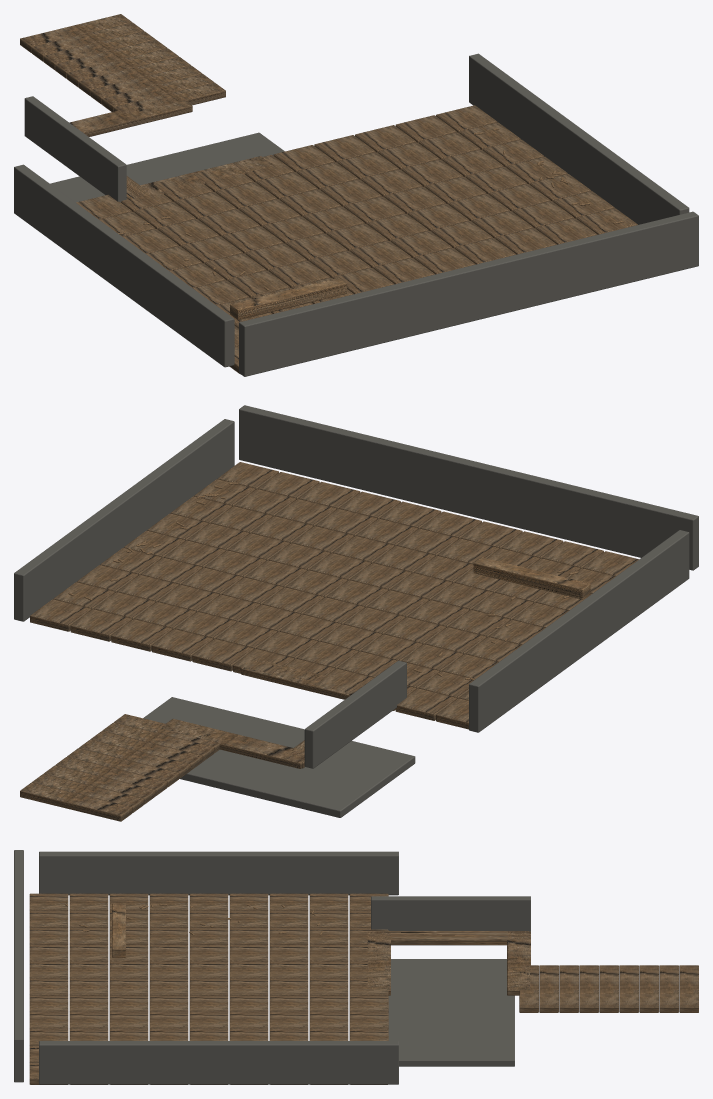
The model's file is sector.glb.
3 renders of one model, top to bottom at view 1: azimuth 30°, elevation 25°; view 2: azimuth 150°, elevation 25°; view 3: azimuth 270°, elevation 25°, orthographic. The views are drawn at different scales.
Visible parts, largest first — view 1: Kitchen rear plinth, Kitchen side plinth, Kitchen side plinth.001, Foundation wall, Joint darkness, Fallen skirting offcut, Ledge turn, Alcove approach, Alcove approach.002, Alcove approach.003, Alcove approach.006, Alcove approach.005 (+72 smaller); view 2: Kitchen rear plinth, Joint darkness, Kitchen side plinth, Kitchen side plinth.001, Foundation wall, Ledge turn, Fallen skirting offcut, Alcove approach.001, Ledge turn.001, Alcove approach.008, Alcove approach.004, Alcove approach.005 (+89 smaller); view 3: Kitchen side plinth.001, Kitchen side plinth, Joint darkness, Foundation wall, Kitchen rear plinth, Side ledge, Ledge turn, Ledge turn.001, Alcove approach.001, Alcove approach.002, Alcove approach.003, Alcove approach.004 (+87 smaller).
Part boxes in pixels (x1=…): Kitchen rear plinth: x1=239, y1=211, x2=698, y2=376; Kitchen side plinth: x1=14, y1=164, x2=234, y2=367; Kitchen side plinth.001: x1=469, y1=53, x2=689, y2=224; Foundation wall: x1=24, y1=96, x2=126, y2=202; Joint darkness: x1=50, y1=132, x2=284, y2=202; Fallen skirting offcut: x1=230, y1=277, x2=346, y2=319; Ledge turn: x1=69, y1=96, x2=192, y2=136; Alcove approach: x1=113, y1=82, x2=225, y2=114; Alcove approach.002: x1=31, y1=22, x2=143, y2=61; Alcove approach.003: x1=43, y1=31, x2=155, y2=69; Alcove approach.006: x1=78, y1=57, x2=190, y2=95; Alcove approach.005: x1=67, y1=48, x2=178, y2=87; Kitchen rear plinth: x1=239, y1=405, x2=698, y2=570; Joint darkness: x1=143, y1=697, x2=415, y2=817; Kitchen side plinth: x1=469, y1=530, x2=689, y2=732; Kitchen side plinth.001: x1=14, y1=419, x2=234, y2=621; Foundation wall: x1=304, y1=660, x2=406, y2=768; Ledge turn: x1=160, y1=718, x2=304, y2=768; Fallen skirting offcut: x1=473, y1=557, x2=590, y2=599; Alcove approach.001: x1=20, y1=782, x2=132, y2=821; Ledge turn.001: x1=241, y1=658, x2=363, y2=699; Alcove approach.008: x1=102, y1=722, x2=214, y2=761; Alcove approach.004: x1=55, y1=757, x2=167, y2=795; Alcove approach.005: x1=67, y1=748, x2=179, y2=786; Kitchen side plinth.001: x1=39, y1=1041, x2=398, y2=1084; Kitchen side plinth: x1=39, y1=851, x2=398, y2=895; Joint darkness: x1=388, y1=959, x2=514, y2=1066; Foundation wall: x1=371, y1=896, x2=530, y2=931; Kitchen rear plinth: x1=14, y1=850, x2=23, y2=1082; Side ledge: x1=369, y1=931, x2=528, y2=945; Ledge turn: x1=507, y1=931, x2=530, y2=995; Ledge turn.001: x1=367, y1=931, x2=390, y2=995; Alcove approach.001: x1=679, y1=965, x2=698, y2=1012; Alcove approach.002: x1=659, y1=965, x2=678, y2=1012; Alcove approach.003: x1=639, y1=965, x2=658, y2=1012; Alcove approach.004: x1=619, y1=965, x2=638, y2=1012.
Size of the model in its own units: 11.45 by 2.44 by 17.12.
Materials: 3 (2 with a texture image).
